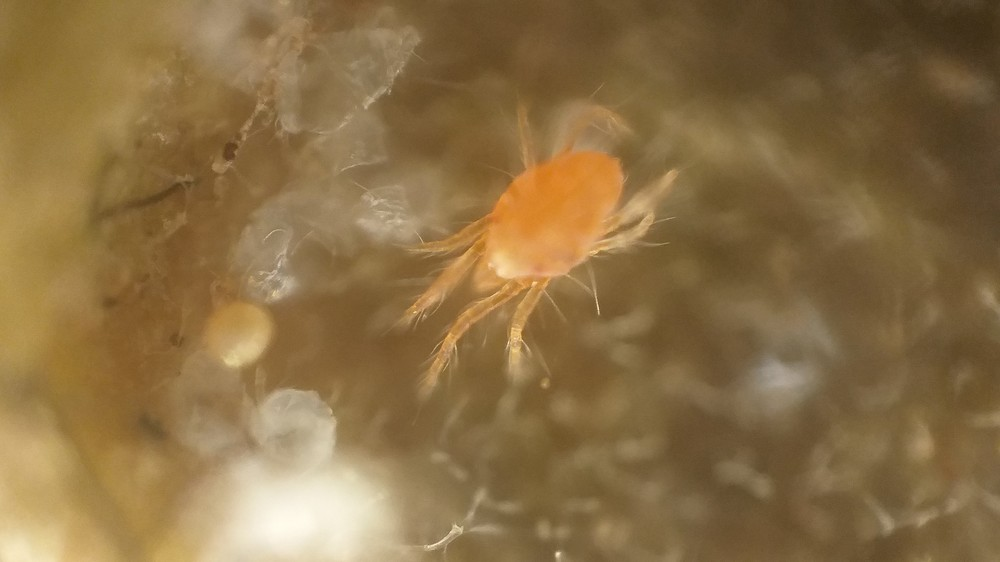Aracnido Rojo: (388, 78, 685, 394)
